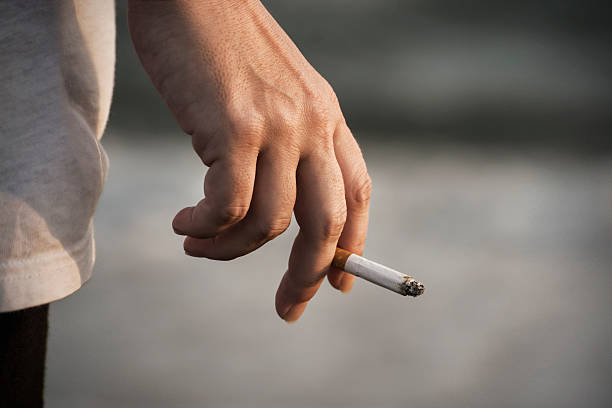cigarette: (331, 250, 424, 299)
